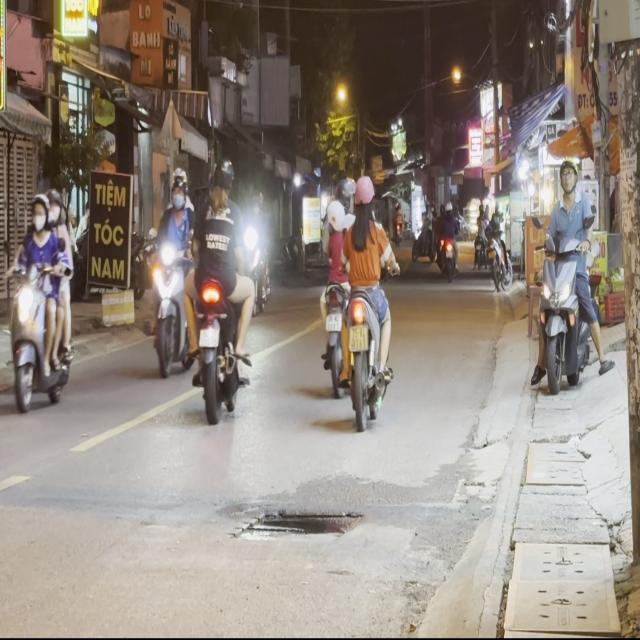helmet: (352, 173, 374, 213), (210, 158, 233, 196), (558, 156, 578, 197), (325, 198, 346, 233), (30, 191, 48, 230), (170, 166, 187, 205), (336, 176, 354, 209), (47, 188, 61, 222)
licenseplate: (533, 153, 608, 393), (187, 155, 254, 420), (5, 187, 76, 412), (340, 171, 396, 425), (148, 164, 197, 376), (316, 174, 352, 394)
nohelmet: (348, 325, 368, 350), (199, 327, 218, 346), (325, 312, 341, 330)
